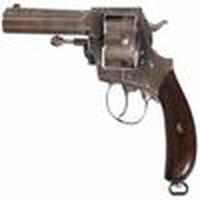gun: (5, 7, 200, 192)
